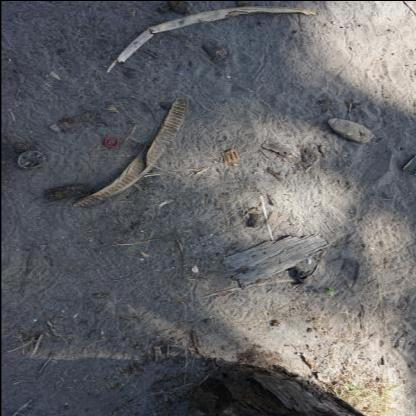Bottle: (103, 137, 117, 146)
Other plastic: (287, 266, 307, 284), (296, 272, 305, 277), (307, 257, 311, 264)
Straw: (258, 195, 272, 240)
